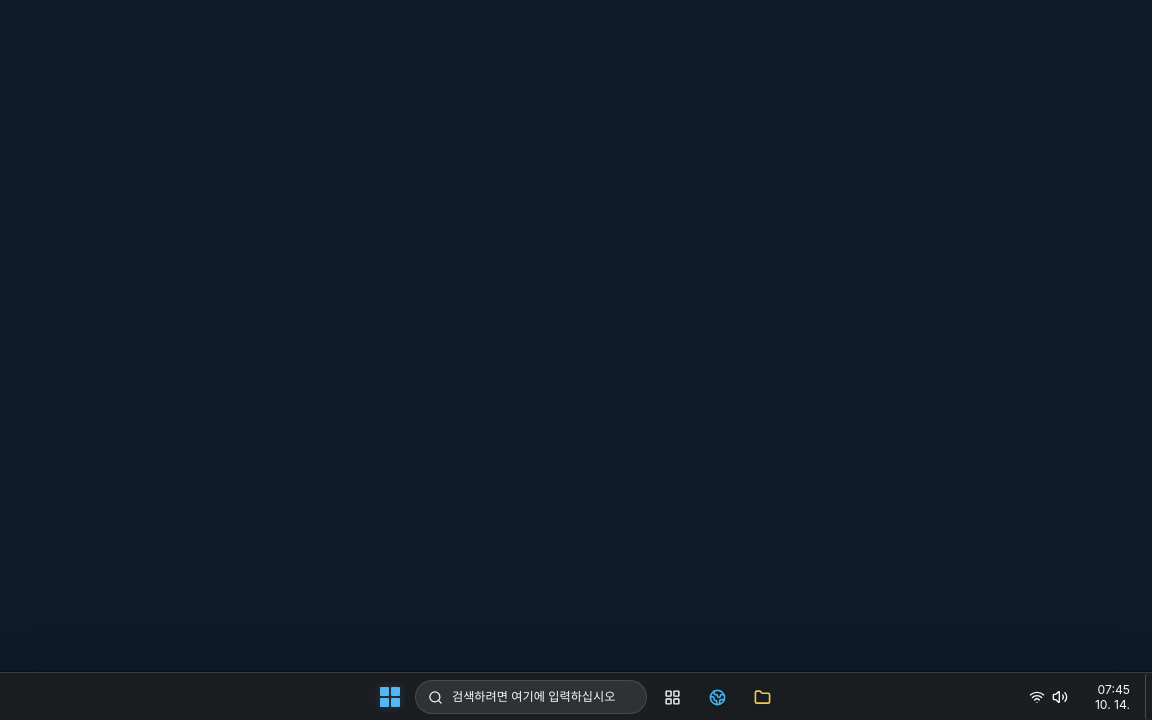
Test: 트레이 캘린더 일정 › 고른 날의 일정을 종일 먼저, 시간 순으로 보여준다
Click the button named "알림 센터 열기".
click(1106, 697)  # box 1076,677 -> 1136,717
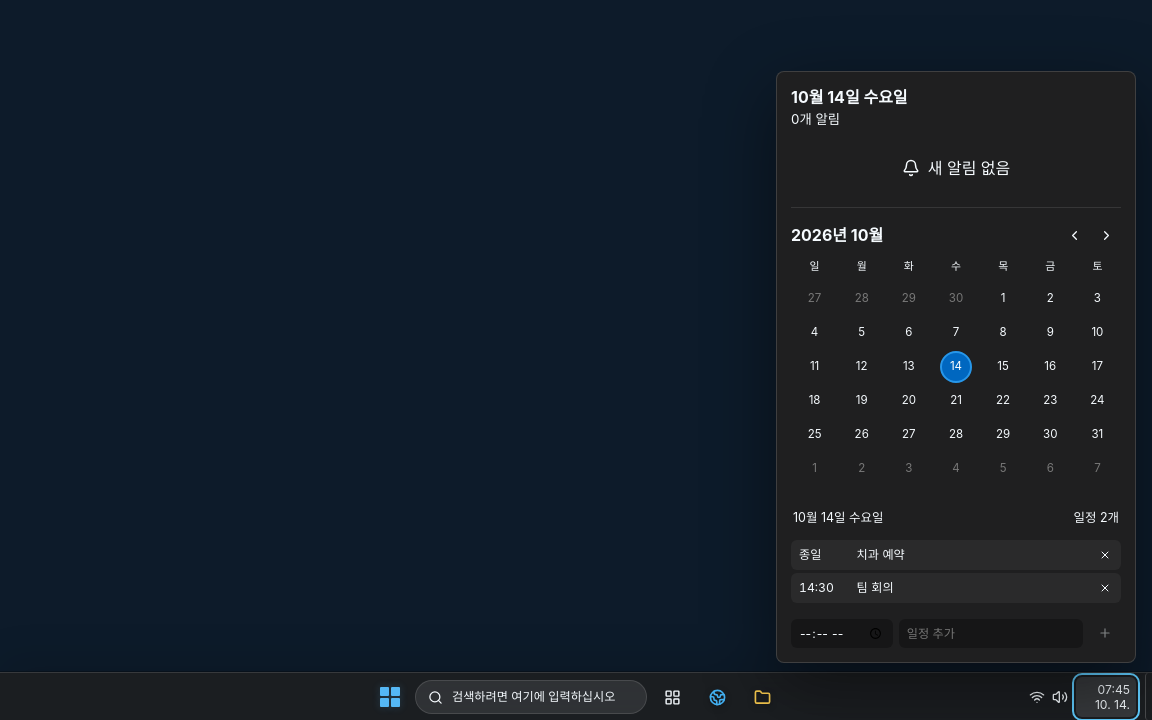
Check: the text "일정 2개" is shown, box 1074,508 -> 1119,526
